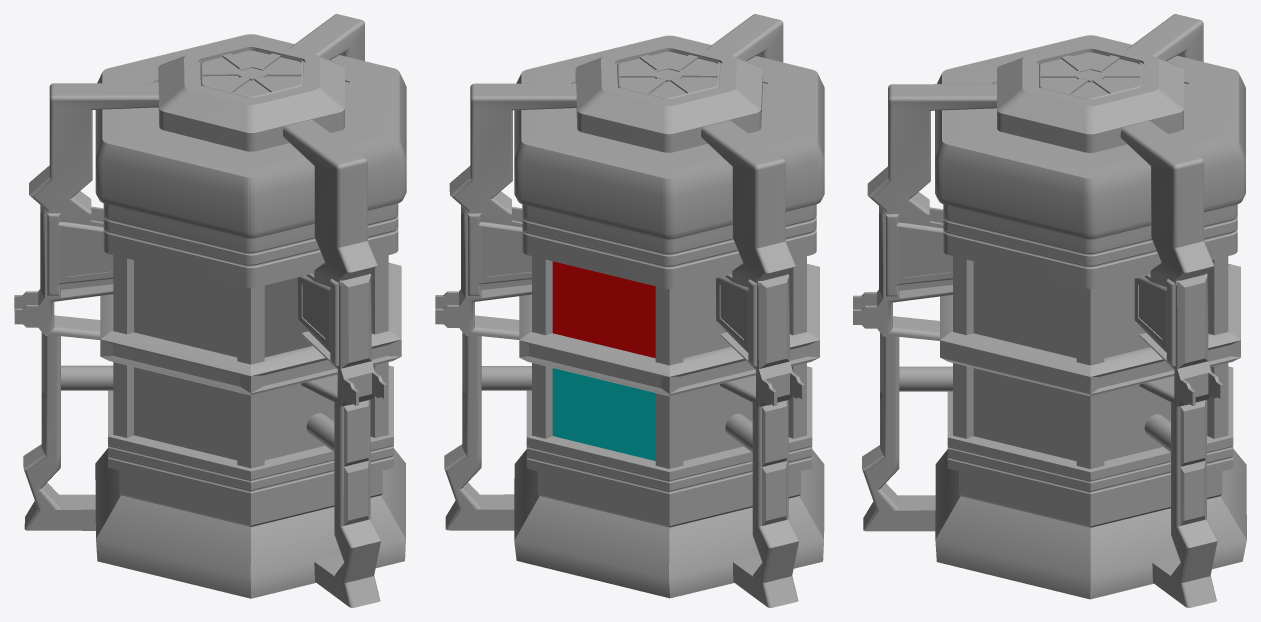
Rendered from PowerReactor.fbx.
3 renders of one model, left to right at view 1: azimuth 30°, elevation 25°; view 2: azimuth 150°, elevation 25°; view 3: azimuth 270°, elevation 25°, orthographic.
Visible parts, largest first — view 1: pCylinder130; view 2: pCylinder130; view 3: pCylinder130.
Boxes of the visible parts, x1=… form: pCylinder130: x1=14, y1=14, x2=406, y2=607; pCylinder130: x1=435, y1=14, x2=824, y2=607; pCylinder130: x1=853, y1=14, x2=1246, y2=607.
Bounding box in the file's own units: 3.25 × 3.79 × 3.
